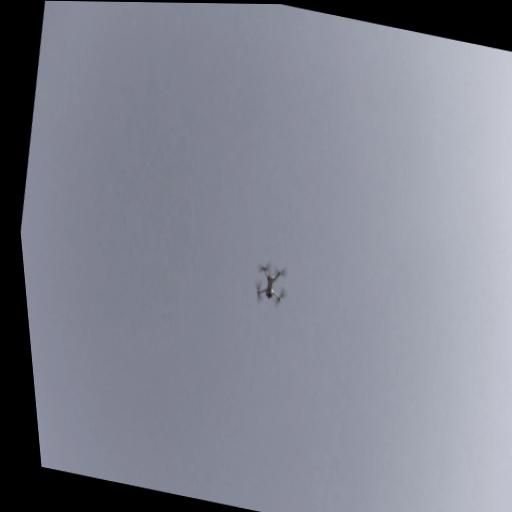drones: (242, 249, 299, 324)
